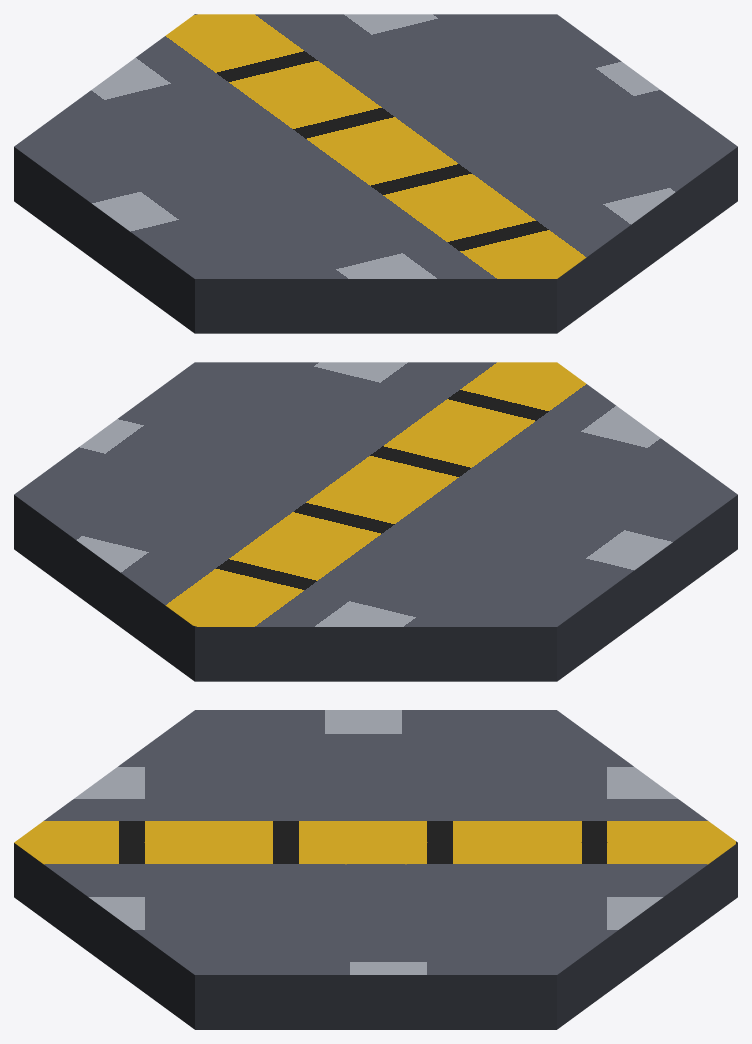
The model's file is turret-mount.obj.
3 views of the same model, one above another, from view 1: azimuth 30°, elevation 25°; view 2: azimuth 150°, elevation 25°; view 3: azimuth 270°, elevation 25° (orthographic).
Bounding box in the file's own units: 0.3118 × 0.03 × 0.36.
